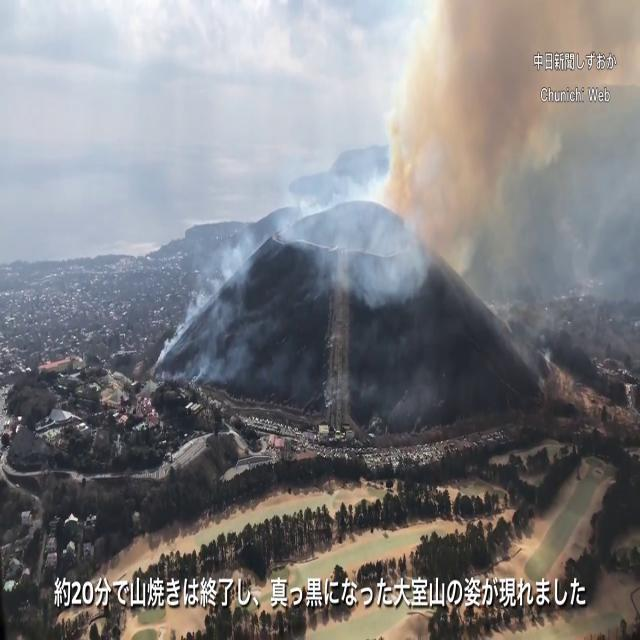Smoke: (362, 0, 640, 347), (150, 183, 374, 409)
